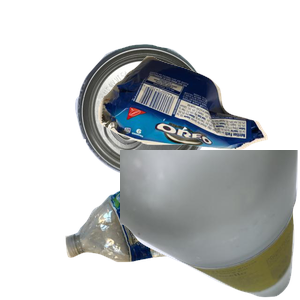glass: (120, 150, 300, 300)
metal: (73, 42, 277, 212)
plastic: (63, 170, 278, 300)
trash: (95, 53, 300, 195)
